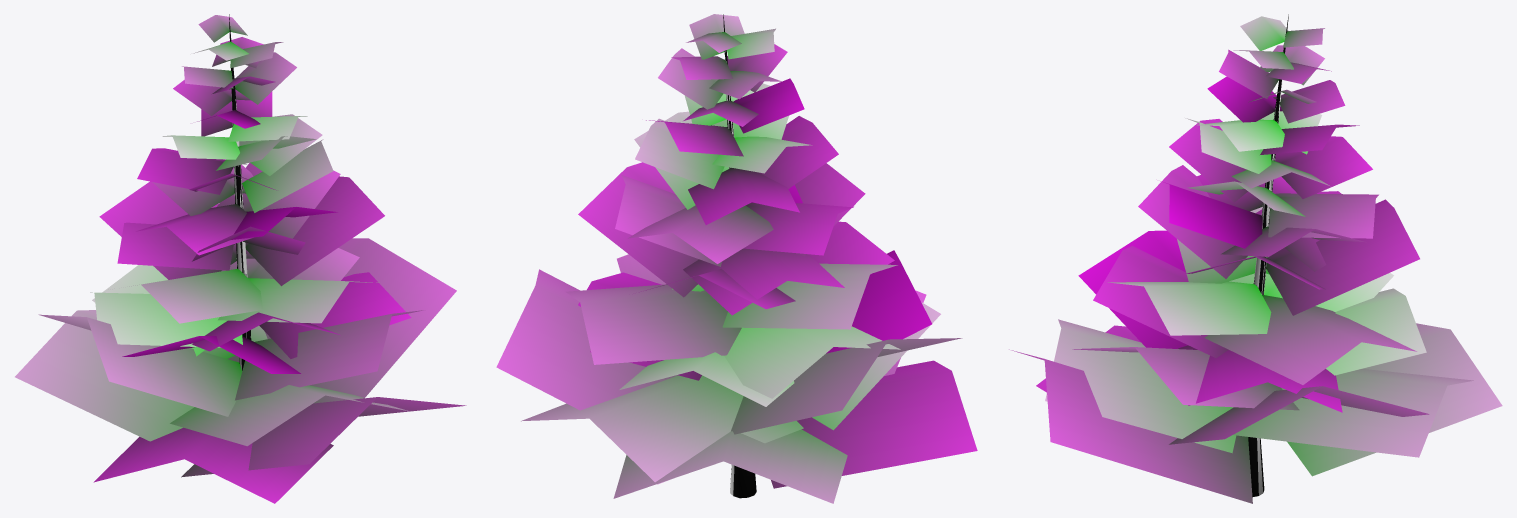
Rendered from fir_01_5m_b.dae.
3 renders of one model, left to right at view 1: azimuth 30°, elevation 25°; view 2: azimuth 150°, elevation 25°; view 3: azimuth 270°, elevation 25°, orthographic. The views are drawn at different scales.
Visible parts, largest first — view 1: fir128, colmesh-1; view 2: fir128; view 3: fir128, colmesh-1.
Boxes of the visible parts, <box> form: fir128: <box>15,14,466,503</box>; colmesh-1: <box>231,94,250,369</box>; fir128: <box>496,14,977,503</box>; fir128: <box>1009,14,1502,503</box>; colmesh-1: <box>1253,80,1282,495</box>.
Size of the model in its own units: 4.44 by 4.7 by 5.04.
